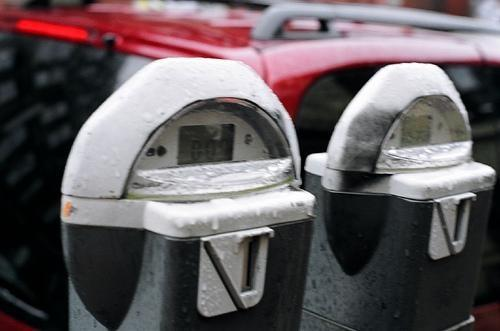car: (0, 1, 500, 308)
